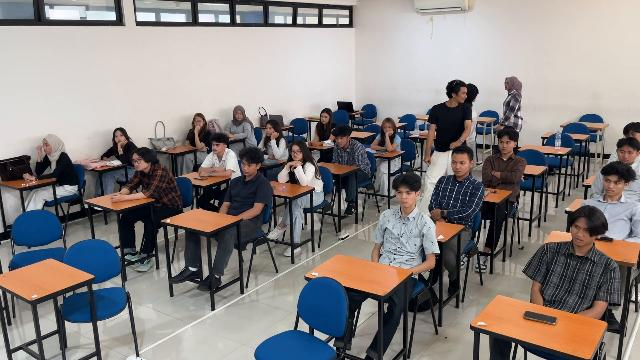fokus: (571, 222, 590, 246), (603, 174, 623, 196), (396, 187, 413, 208), (451, 157, 467, 176), (132, 153, 147, 170), (241, 160, 256, 176), (618, 148, 634, 163), (498, 138, 513, 153), (114, 130, 128, 146), (625, 129, 640, 140), (335, 135, 347, 148), (292, 146, 302, 160), (266, 124, 277, 136), (43, 139, 51, 154), (383, 123, 393, 135), (211, 142, 221, 153), (320, 113, 330, 124), (194, 116, 203, 128), (236, 110, 243, 120)
